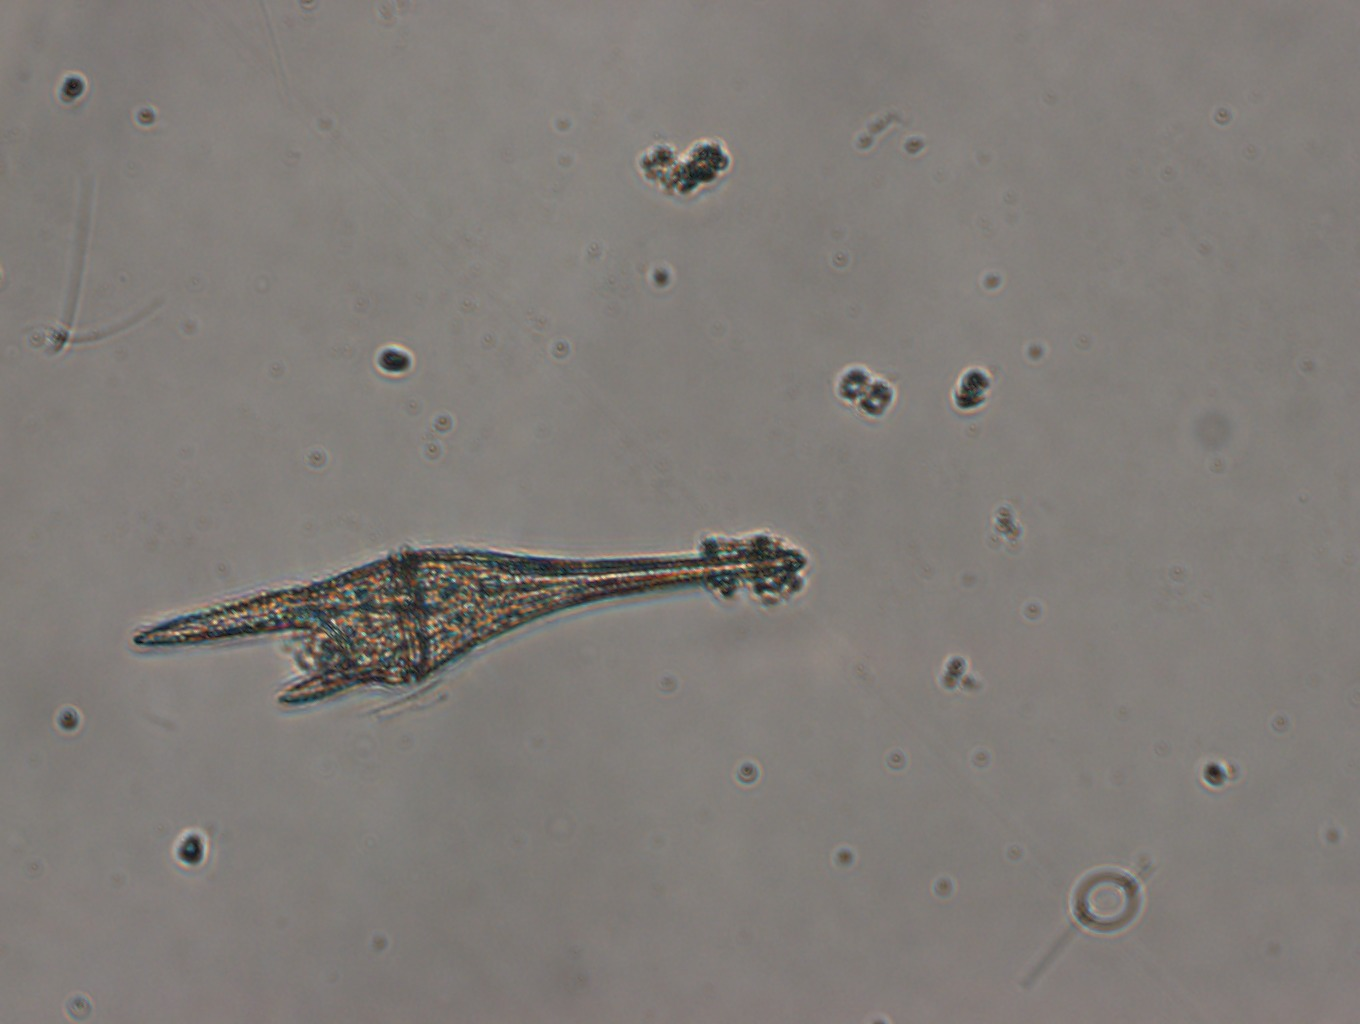ceratium furca: (130, 541, 805, 707)
